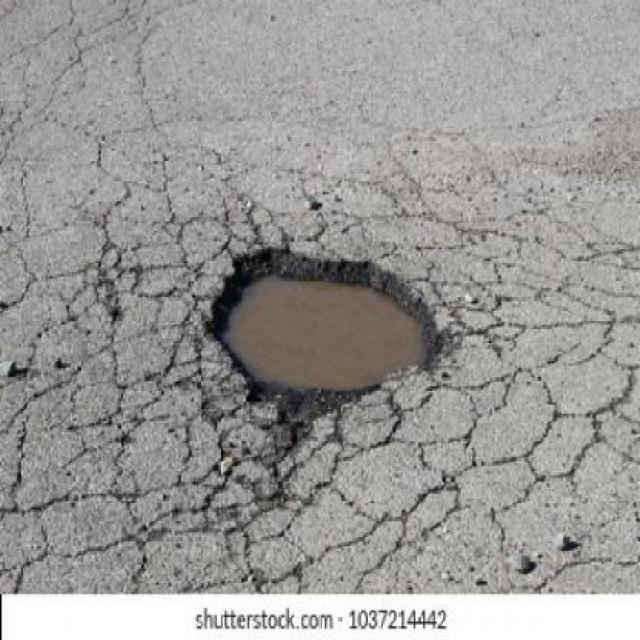Pothole: (203, 244, 442, 396)
